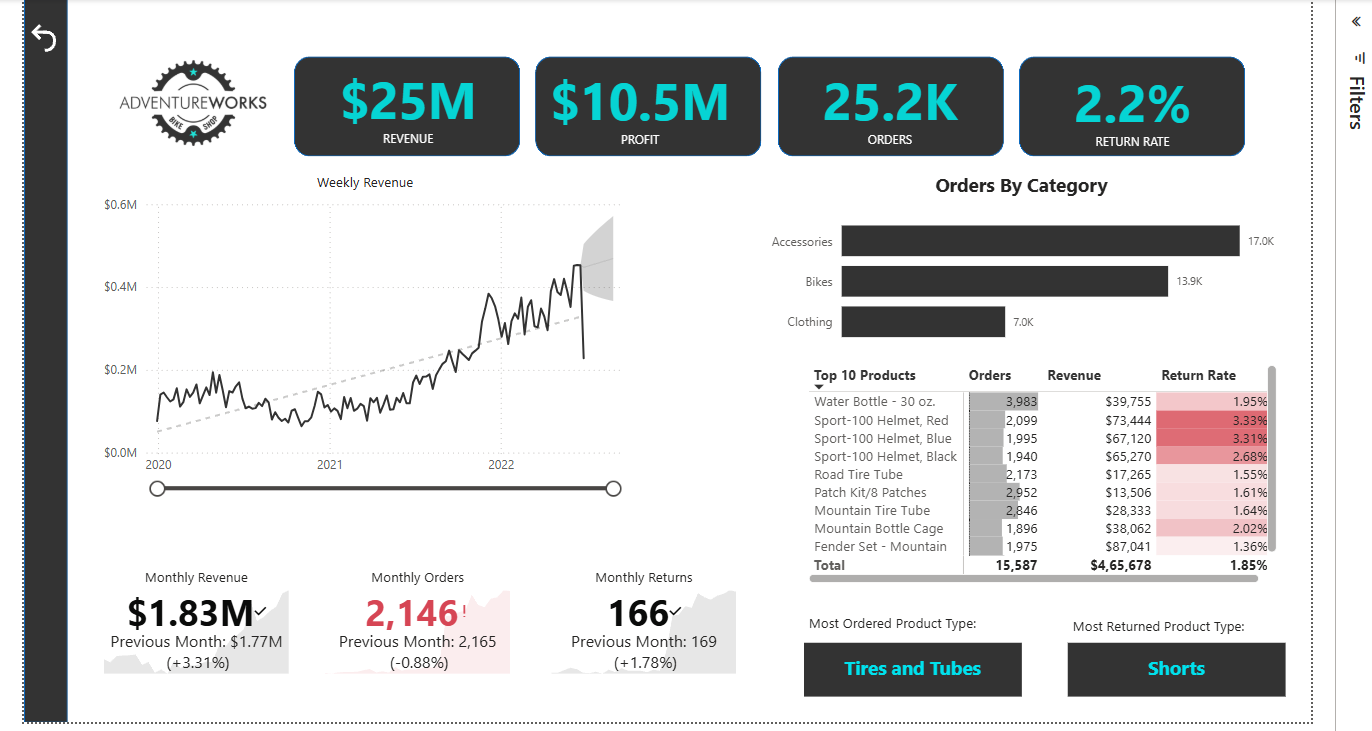

Layout of this report page (visuals, bound fields, positions):
{"tool":"powerbi","page":{"name":"Exec Dashboard","canvas":[1280,720],"ordinal":0},"visuals":[{"type":"image","title":"AW image","box":[74.6,10,187.8,187.8],"z":0},{"type":"shape","box":[749.7,57.2,225.2,99.5],"z":0,"group":"g2"},{"type":"shape","title":"left nav bar","box":[0,0,43.5,720.3],"z":1000},{"type":"shape","box":[268.7,57.2,225.2,99.5],"z":1000,"group":"g2"},{"type":"group","id":"g1","title":"KPIs","box":[268.7,12.4,946.7,190.3],"z":2000},{"type":"group","id":"g2","title":" KPI backgrounds","box":[268.7,57.2,946.6,99.5],"z":2000,"group":"g1"},{"type":"shape","box":[990.1,57.2,225.2,99.5],"z":2000,"group":"g2"},{"type":"card","fields":{"Values":["Measure Table.Total Revenue"]},"box":[288.6,12.4,187.8,187.8],"z":3000,"group":"g3"},{"type":"shape","box":[509.2,57.2,225.2,99.5],"z":3000,"group":"g2"},{"type":"lineChart","title":"Weekly Revenue","fields":{"Category":[" Calendar Lookup.Start of Week"],"Y":["Measure Table.Total Revenue"]},"box":[74.6,172.9,529.9,324.7],"z":3000},{"type":"card","fields":{"Values":["Measure Table.Total Profit"]},"box":[518.7,13.6,189.1,186.6],"z":4000,"group":"g3"},{"type":"kpi","title":"Monthly Revenue ","fields":{"Indicator":["Measure Table.Total Revenue"],"TrendLine":[" Calendar Lookup.Start of Month"],"Goal":["Measure Table.Previous Month Revenue"]},"box":[74.6,566,194.1,110.7],"z":4000},{"type":"card","fields":{"Values":["Measure Table.Total Orders"]},"box":[767.5,13.6,189.1,186.6],"z":5000,"group":"g3"},{"type":"kpi","title":"Monthly Returns","fields":{"TrendLine":[" Calendar Lookup.Start of Month"],"Indicator":["Measure Table.Total Returns"],"Goal":["Measure Table.Previous Month Returns"]},"box":[520,566,194.1,110.7],"z":5000},{"type":"card","fields":{"Values":["Measure Table.Return Rate"]},"box":[1008.9,14.9,189.1,187.8],"z":6000,"group":"g3"},{"type":"kpi","title":"Monthly Orders ","fields":{"TrendLine":[" Calendar Lookup.Start of Month"],"Indicator":["Measure Table.Total Orders"],"Goal":["Measure Table.Previous Month Orders"]},"box":[294.8,566,194.1,110.7],"z":6000},{"type":"group","id":"g3","title":"KPI Value","box":[288.6,12.4,909.3,190.3],"z":6001,"group":"g1"},{"type":"clusteredBarChart","title":" Orders By Category","fields":{"Category":["Product Categories Lookup.CategoryName"],"Y":["Measure Table.Total Orders"]},"box":[733.9,171.7,517.5,187.8],"z":7000},{"type":"pivotTable","fields":{"Values":["Measure Table.Total Orders","Measure Table.Total Revenue","Measure Table.Return Rate"],"Rows":["Product Lookup.ProductName"]},"box":[776.2,359.5,475.2,226.4],"z":8000},{"type":"card","fields":{"Values":["Min(Product Subcategories Lookup.SubcategoryName)"]},"box":[776.2,640.6,216.4,53.5],"z":9000},{"type":"textbox","box":[776.2,607.1,189.1,33.6],"z":10000},{"type":"card","fields":{"Values":["Min(Product Subcategories Lookup.SubcategoryName)"]},"box":[1038.7,640.6,216.4,53.5],"z":11000},{"type":"textbox","box":[1039,609.1,189.1,33.6],"z":12000},{"type":"actionButton","box":[1.2,19.9,43.5,37.3],"z":13000}]}

Visuals, with their boxes on the page's 1280x720 design canvas (x1, y1, x2, y2). These are canvas units, not pixel positions in the 1372x731 screenshot, which may show the page scaled, cropped or inside an application window:
"AW image" image: detection(75, 10, 262, 198)
shape: detection(750, 57, 975, 157)
"left nav bar" shape: detection(0, 0, 44, 720)
shape: detection(269, 57, 494, 157)
"KPIs" group: detection(269, 12, 1215, 203)
" KPI backgrounds" group: detection(269, 57, 1215, 157)
shape: detection(990, 57, 1215, 157)
card - Measure Table.Total Revenue: detection(289, 12, 476, 200)
shape: detection(509, 57, 734, 157)
"Weekly Revenue" lineChart: detection(75, 173, 604, 498)
card - Measure Table.Total Profit: detection(519, 14, 708, 200)
"Monthly Revenue " kpi: detection(75, 566, 269, 677)
card - Measure Table.Total Orders: detection(768, 14, 957, 200)
"Monthly Returns" kpi: detection(520, 566, 714, 677)
card - Measure Table.Return Rate: detection(1009, 15, 1198, 203)
"Monthly Orders " kpi: detection(295, 566, 489, 677)
"KPI Value" group: detection(289, 12, 1198, 203)
" Orders By Category" clusteredBarChart: detection(734, 172, 1251, 360)
pivotTable - Measure Table.Total Orders x Measure Table.Total Revenue: detection(776, 360, 1251, 586)
card - Min(Product Subcategories Lookup.SubcategoryName): detection(776, 641, 993, 694)
textbox: detection(776, 607, 965, 641)
card - Min(Product Subcategories Lookup.SubcategoryName): detection(1039, 641, 1255, 694)
textbox: detection(1039, 609, 1228, 643)
actionButton: detection(1, 20, 45, 57)
